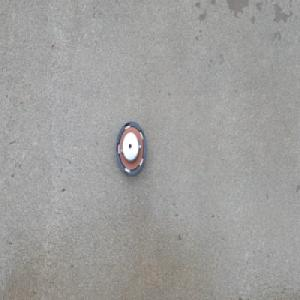FuelCap: (115, 120, 147, 177)
